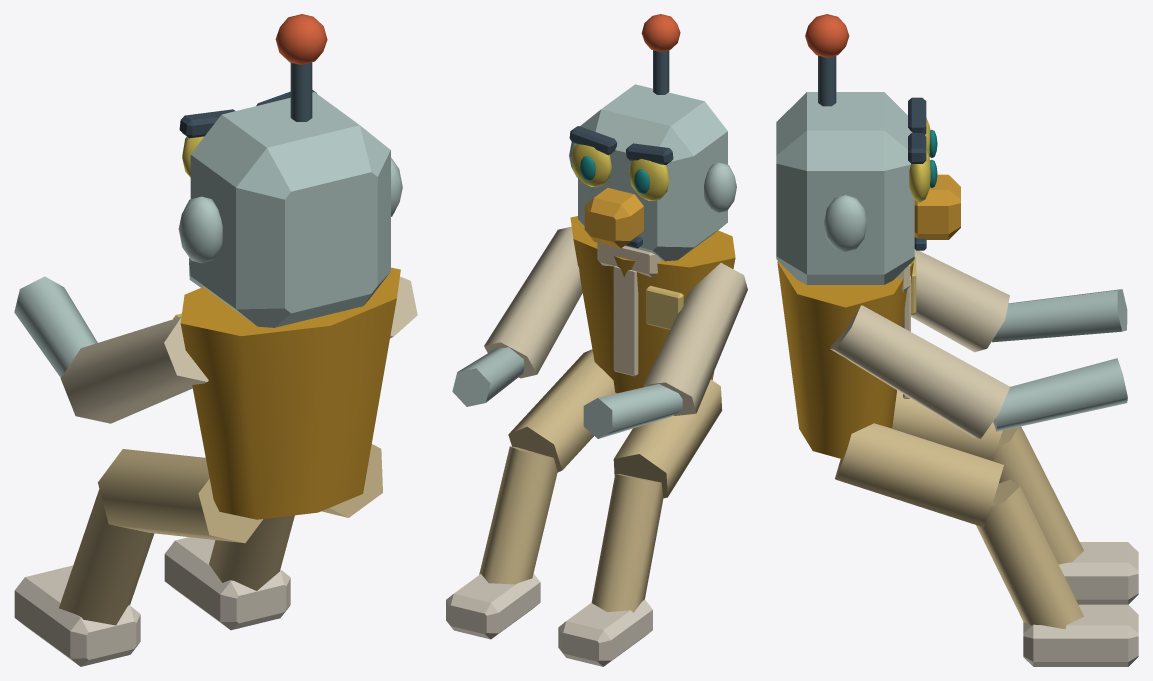
File: driver-robot.glb
3 renders of one model, left to right at view 1: azimuth 30°, elevation 25°; view 2: azimuth 150°, elevation 25°; view 3: azimuth 270°, elevation 25°, orthographic. The views are drawn at different scales.
Parts seen in each view (by area): view 1: HeadRebound, ElasticTorso, PlantedLegs, LeftUpperArm, LeftForearm, RightUpperArm; view 2: PlantedLegs, HeadRebound, ElasticTorso, LeftUpperArm, RightUpperArm, LeftForearm, RightForearm; view 3: PlantedLegs, HeadRebound, ElasticTorso, RightUpperArm, LeftUpperArm, RightForearm, LeftForearm.
Boxes of the visible parts, <box> form: HeadRebound: <box>178,14,402,327</box>; ElasticTorso: <box>173,267,400,519</box>; PlantedLegs: <box>14,444,382,666</box>; LeftUpperArm: <box>60,317,208,423</box>; LeftForearm: <box>14,276,97,377</box>; RightUpperArm: <box>390,276,417,338</box>; PlantedLegs: <box>446,349,722,666</box>; HeadRebound: <box>569,14,736,261</box>; ElasticTorso: <box>570,216,735,393</box>; LeftUpperArm: <box>643,263,747,415</box>; RightUpperArm: <box>484,226,582,378</box>; LeftForearm: <box>583,384,682,438</box>; RightForearm: <box>452,347,524,406</box>; PlantedLegs: <box>835,390,1138,666</box>; HeadRebound: <box>776,14,960,284</box>; ElasticTorso: <box>777,257,916,459</box>; RightUpperArm: <box>830,305,1009,438</box>; LeftUpperArm: <box>911,249,1009,352</box>; RightForearm: <box>993,358,1127,431</box>; LeftForearm: <box>992,289,1127,342</box>.
Size of the model in its own units: 0.5902 by 1.46 by 0.785.
